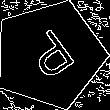P_SE: (18, 24, 81, 86)
